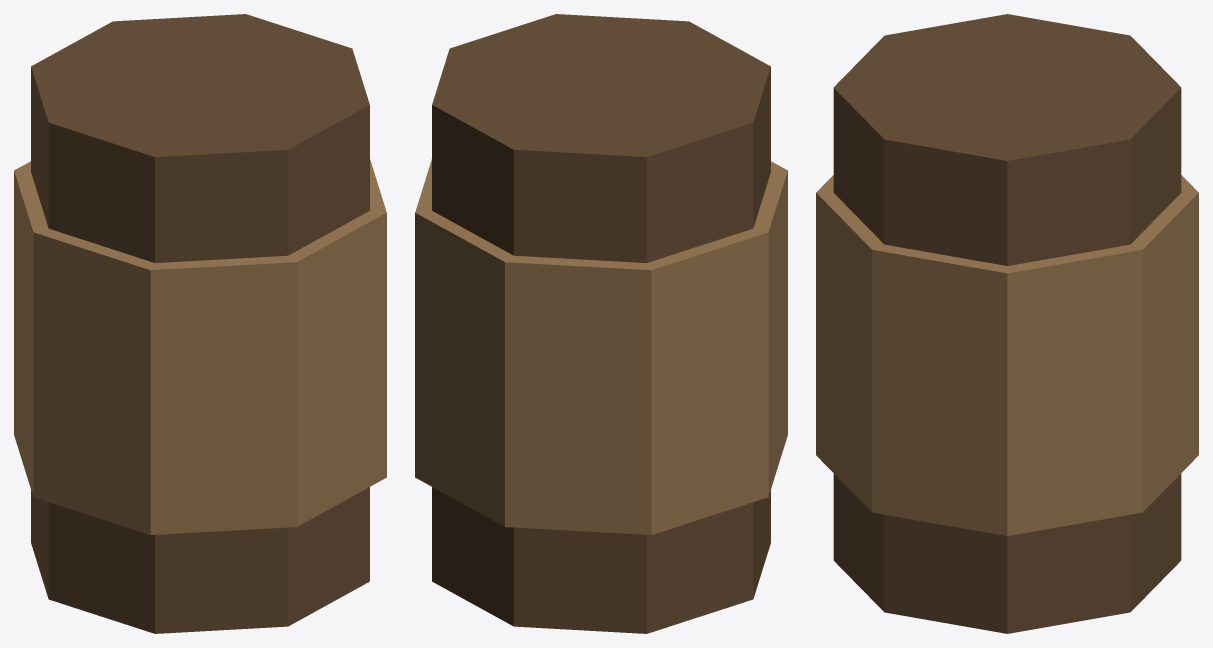
Rendered from barril.glb.
3 views of the same model, side by side, from view 1: azimuth 30°, elevation 25°; view 2: azimuth 150°, elevation 25°; view 3: azimuth 270°, elevation 25° (orthographic).
Visible parts, largest first — view 1: barril; view 2: barril; view 3: barril.
Part boxes in pixels (box(x1,y1,x2,y2)): barril: box(14, 14, 386, 633); barril: box(415, 14, 787, 633); barril: box(816, 14, 1198, 633).
Size of the model in its own units: 0.66 by 0.9 by 0.66.
